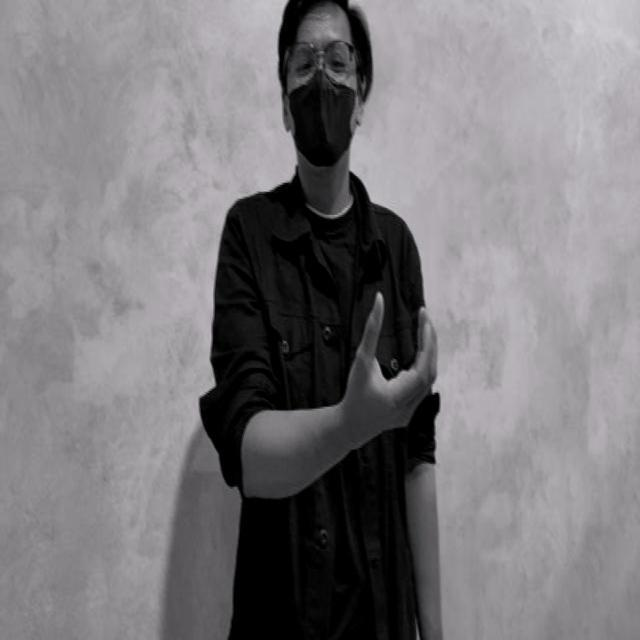U: (348, 277, 442, 415)
